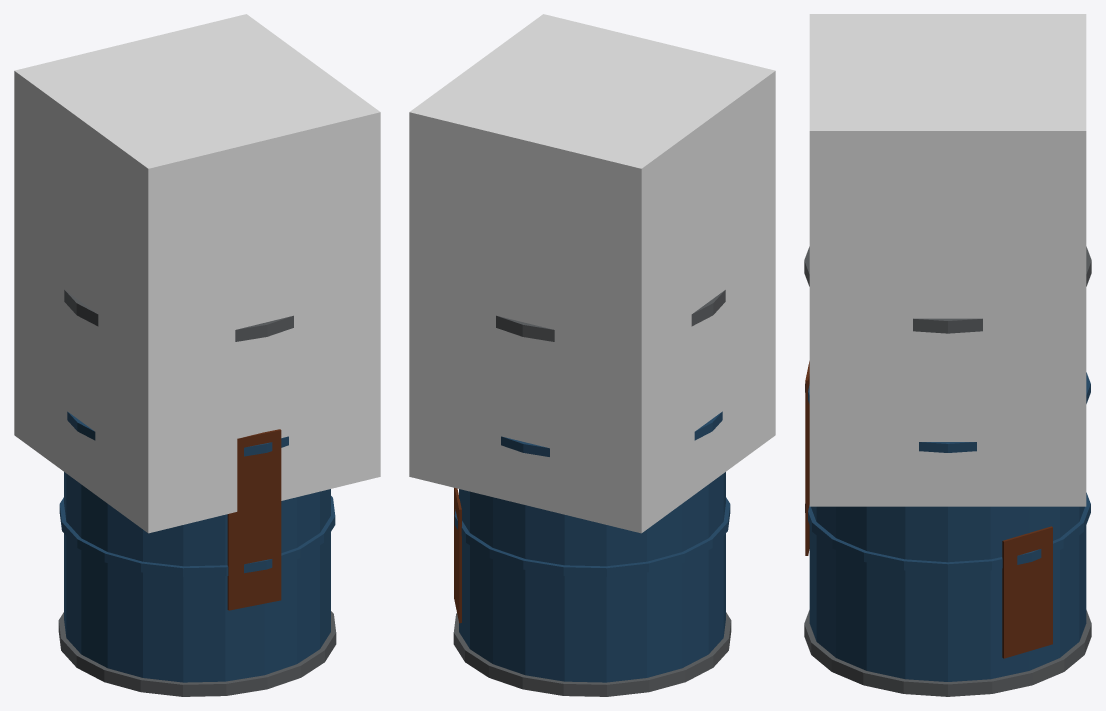
The model's file is Drum_Blue.fbx.
3 renders of one model, left to right at view 1: azimuth 30°, elevation 25°; view 2: azimuth 150°, elevation 25°; view 3: azimuth 270°, elevation 25°, orthographic. The views are drawn at different scales.
Parts seen in each view (by area): view 1: COL_Drum_Blue_Body, Drum_Blue; view 2: COL_Drum_Blue_Body, Drum_Blue; view 3: COL_Drum_Blue_Body, Drum_Blue.
Boxes of the visible parts, box(x1,y1,x2,y2) form: COL_Drum_Blue_Body: box(14, 14, 380, 533); Drum_Blue: box(58, 290, 336, 696); COL_Drum_Blue_Body: box(409, 14, 775, 533); Drum_Blue: box(453, 290, 731, 696); COL_Drum_Blue_Body: box(809, 14, 1086, 506); Drum_Blue: box(804, 246, 1091, 696).
Bounding box in the file's own units: 0.624 × 1.35 × 0.624.
